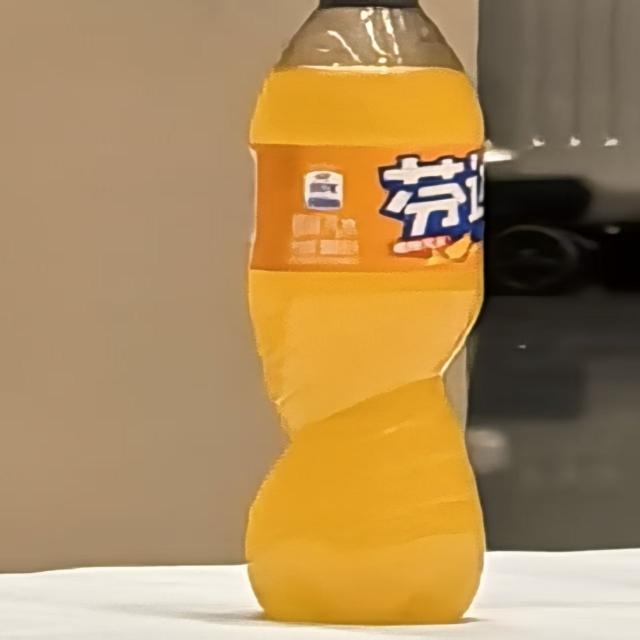orange: (376, 142, 500, 266)
